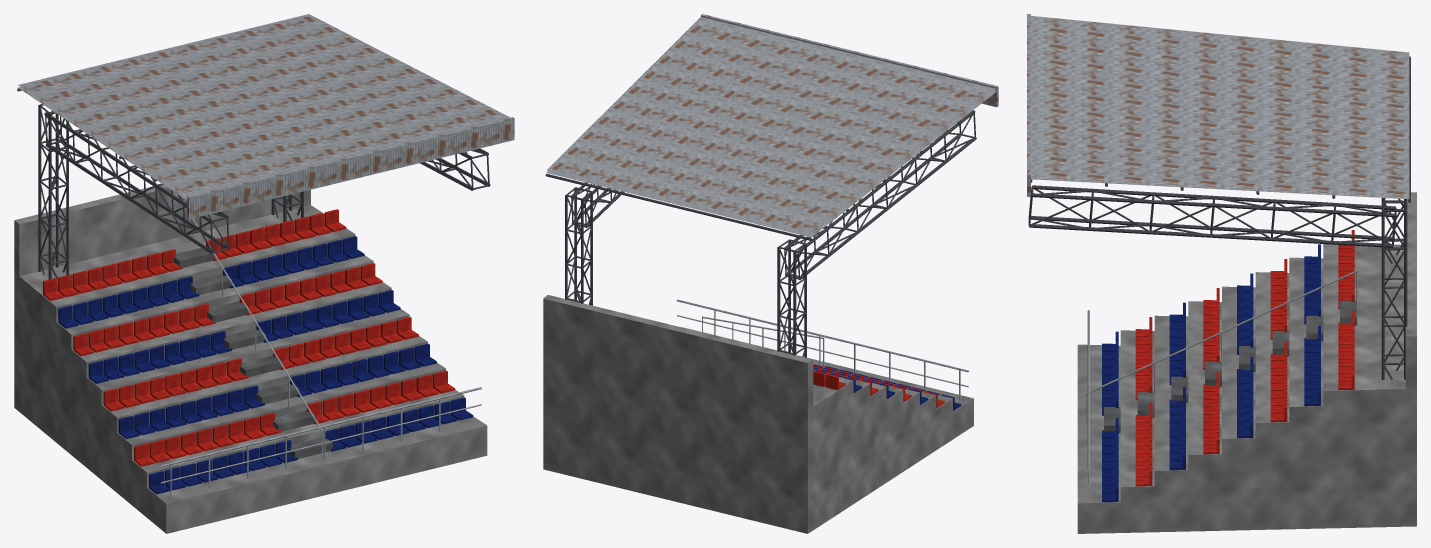
File: bay_10m_curve6_in_roof.glb
3 views of the same model, side by side, from view 1: azimuth 30°, elevation 25°; view 2: azimuth 150°, elevation 25°; view 3: azimuth 270°, elevation 25° (orthographic). The views are drawn at different scales.
Visible parts, largest first — view 1: bay_10m_curve6_in_roof; view 2: bay_10m_curve6_in_roof; view 3: bay_10m_curve6_in_roof.
Part boxes in pixels (left/top/right/bottom): bay_10m_curve6_in_roof: left=14, top=14, right=514, bottom=533; bay_10m_curve6_in_roof: left=543, top=14, right=998, bottom=533; bay_10m_curve6_in_roof: left=1027, top=14, right=1416, bottom=533.
Size of the model in its own units: 10.17 by 10.62 by 10.4.
7 materials, 7 textured.
